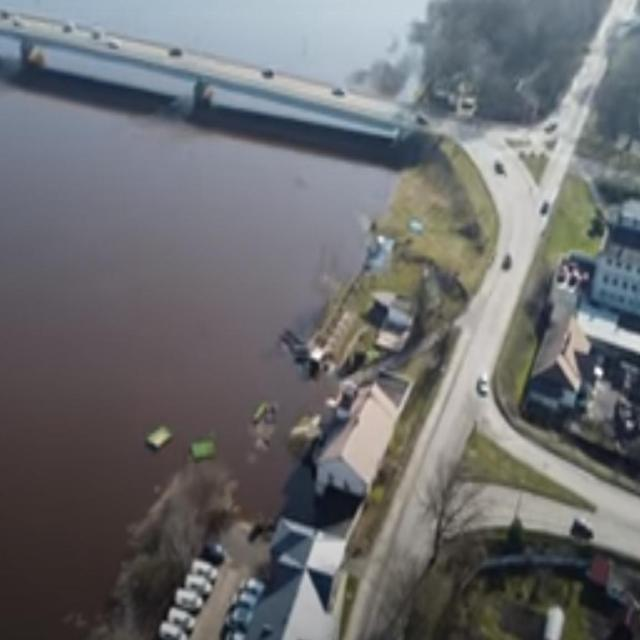flood: (0, 48, 397, 637), (0, 0, 426, 85)
house: (238, 514, 348, 640), (314, 381, 399, 504), (591, 194, 640, 322), (534, 314, 590, 394)
